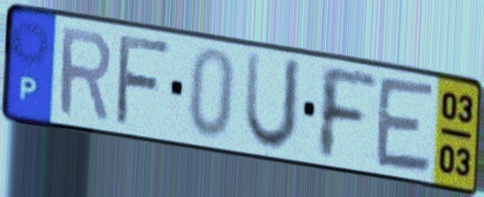0: (182, 44, 241, 145)
E: (373, 72, 438, 178)
F: (316, 61, 381, 165), (111, 33, 176, 129)
R: (57, 24, 114, 126)
U: (240, 48, 306, 156)
